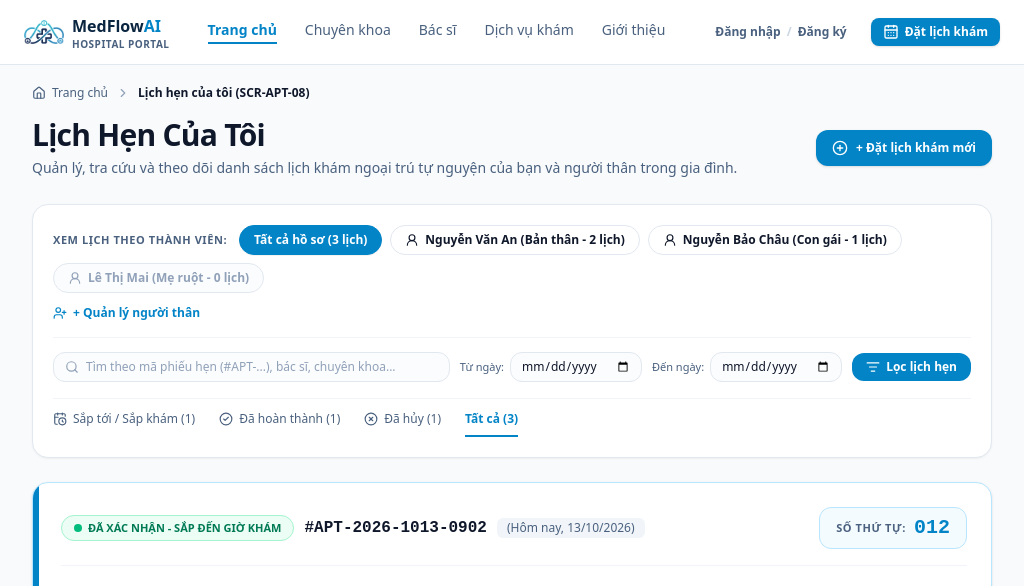
Test: AppointmentListPage (SCR-APT-08) › validates date range filter on submit and shows inline validation error when dateFrom > dateTo
The image size is (1024, 586).
Expected: the text "#APT-2026-1013-0902" is shown, [304, 516, 487, 540]
In the date field labelled "Từ ngày": (576, 367) [510, 352, 642, 382], type "2026-10-25"
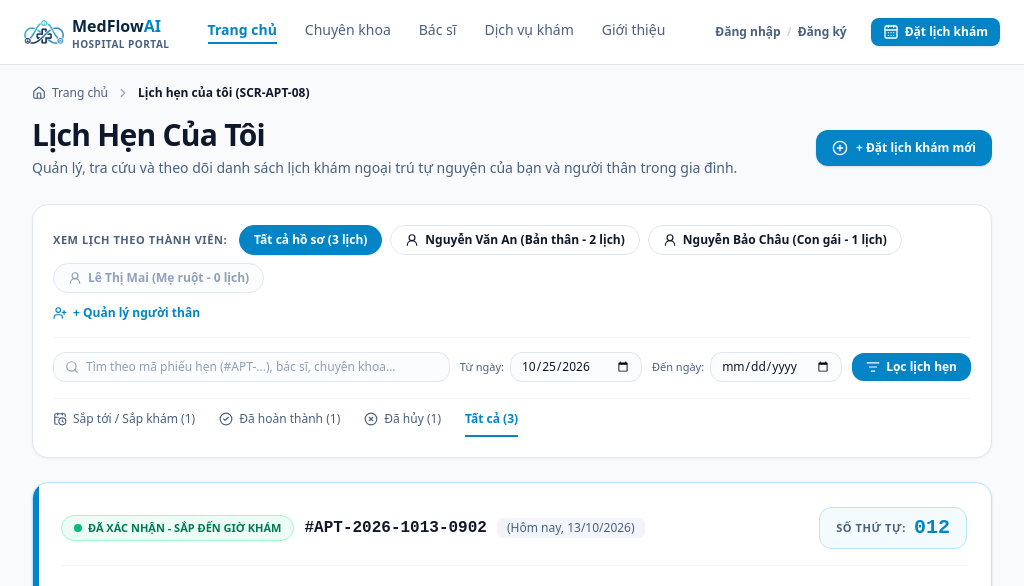
In the date field labelled "Đến ngày": (776, 367) [710, 352, 842, 382], type "2026-10-10"
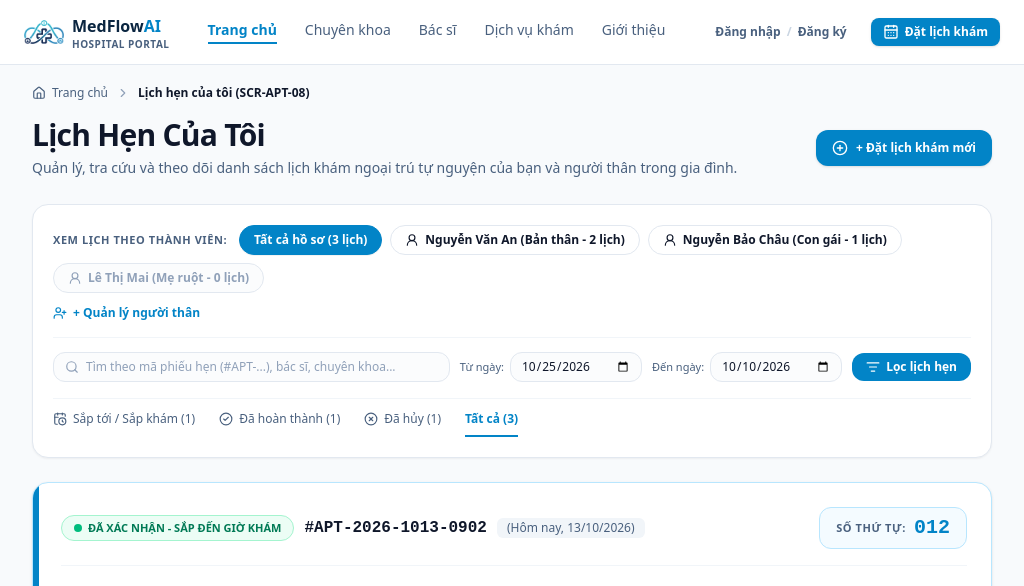
Click the button "Lọc lịch hẹn": (912, 367) [852, 353, 971, 381]
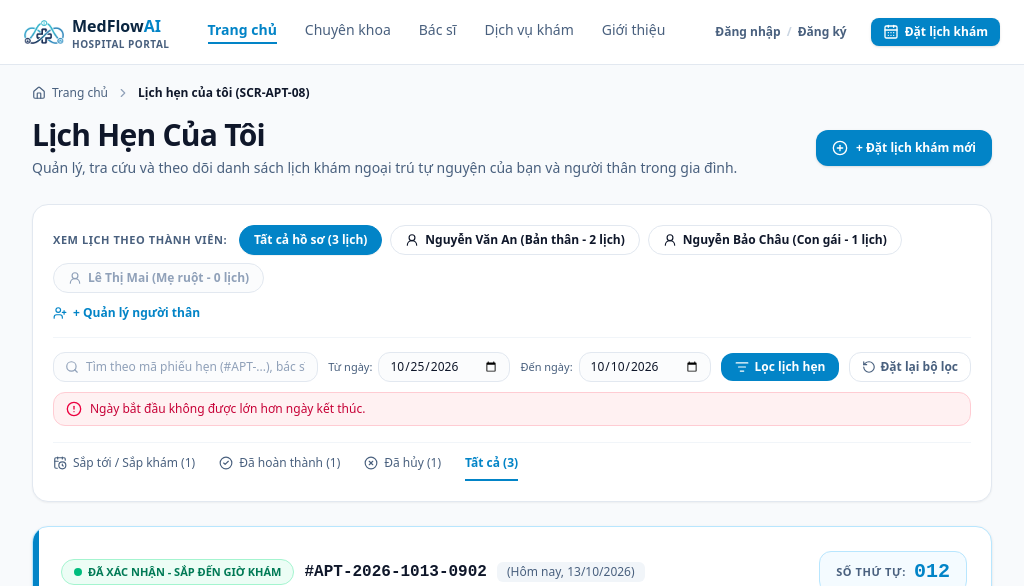
Expected: the text "Ngày bắt đầu không được lớn hơn ngày kết thúc." is shown, [90, 401, 365, 417]
